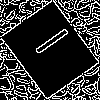I: (25, 25, 72, 64)
